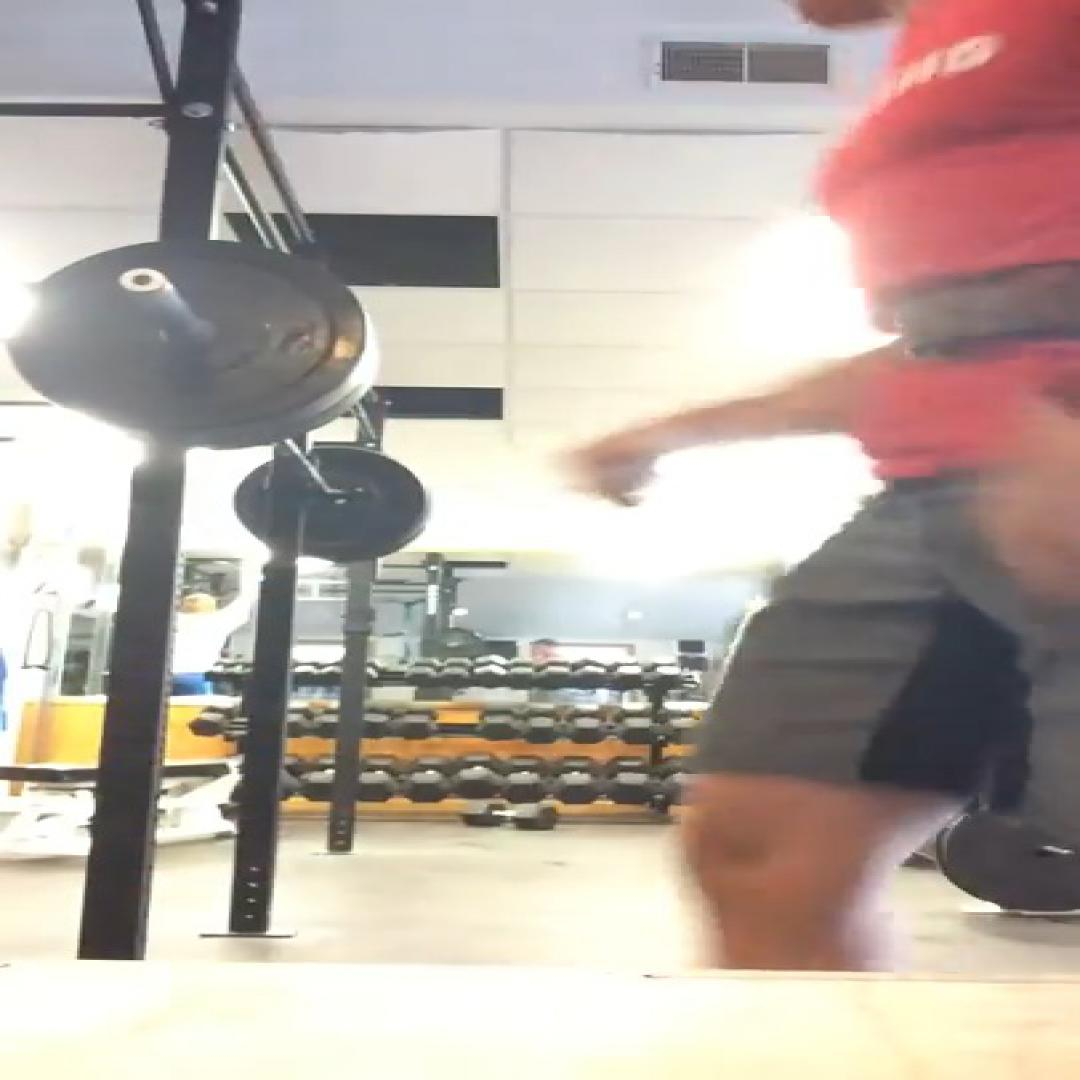Bar: (119, 267, 168, 294)
Barbell: (8, 243, 367, 432)
